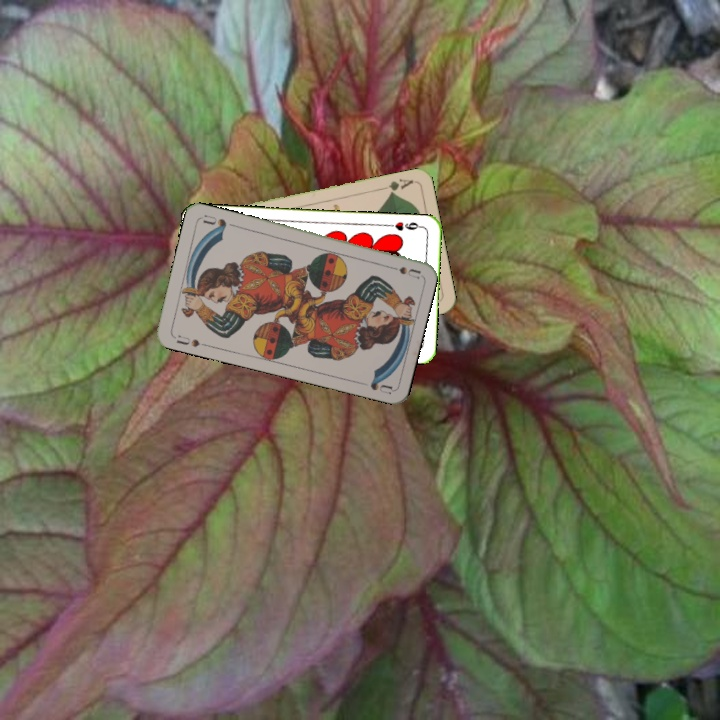GA: (376, 174, 416, 197)
H9: (385, 218, 425, 233)
SU: (382, 261, 422, 281), (172, 331, 210, 350)
